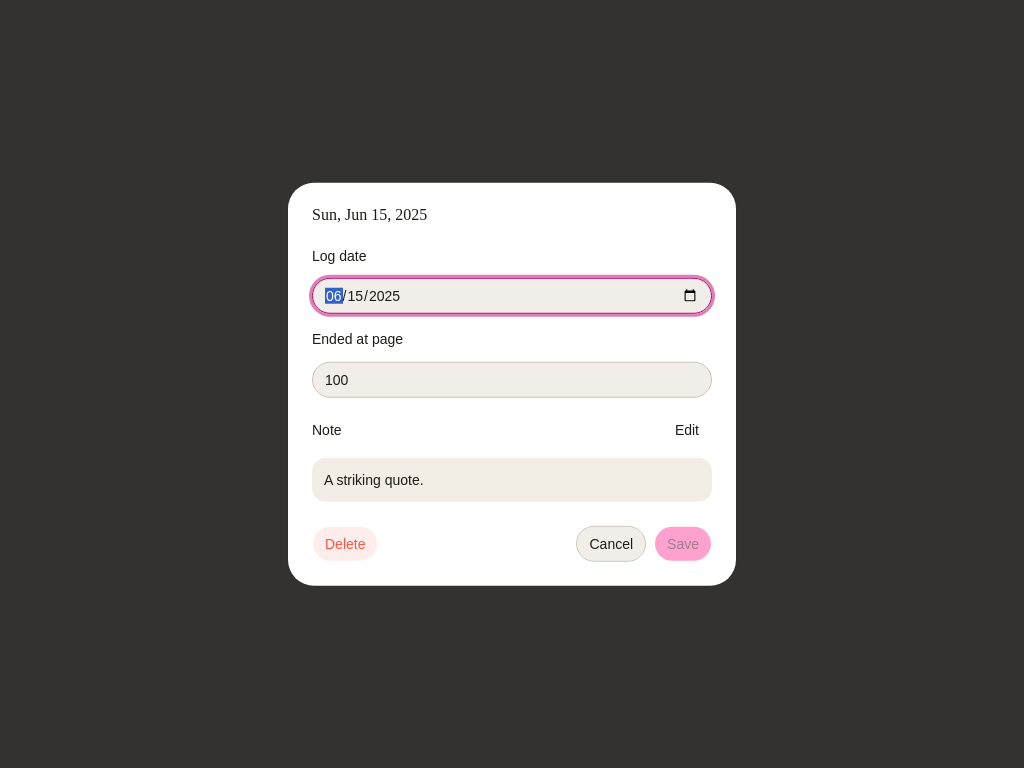
Test: EntryEditSheet › shows an existing note as static text until Edit is clicked
Check: the text "A striking quote." is shown, box [324,471,424,487]
Click the button with aria-label "Edit note" at {"x": 678, "y": 429}, box [644,413,712,445]
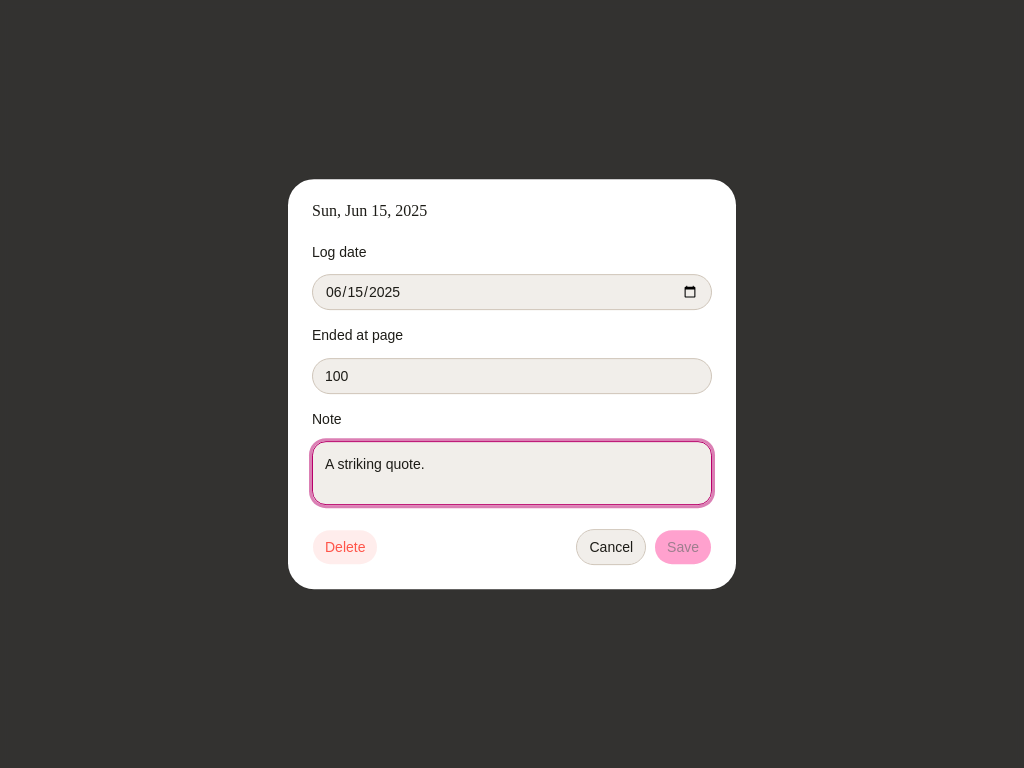
Check: the text box labelled "Note" holds "A striking quote.", box [312,441,712,505]
